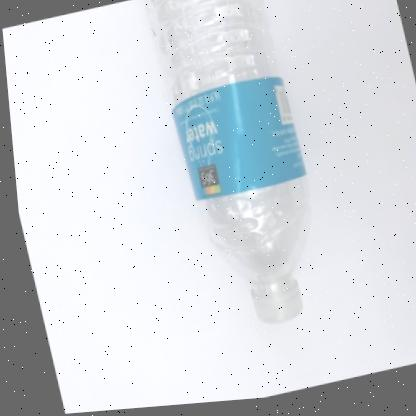Plastic: (143, 0, 304, 327)
